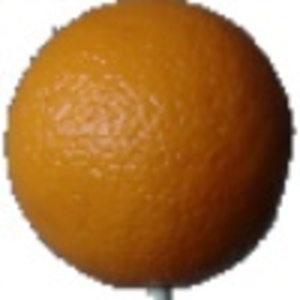laranja: (2, 2, 297, 286)
